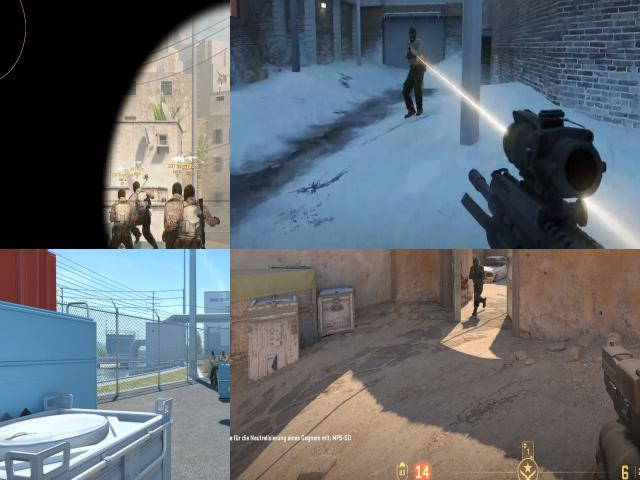CT: (471, 257, 486, 313)
CT-Head: (472, 258, 480, 266)
T: (402, 16, 428, 80), (177, 185, 202, 249), (130, 179, 154, 243), (110, 189, 134, 249), (165, 181, 184, 249), (210, 351, 218, 384), (220, 351, 228, 364)
T-Head: (404, 24, 422, 44), (184, 185, 198, 204), (171, 182, 183, 194), (116, 189, 126, 201), (132, 181, 142, 191), (212, 350, 216, 356), (222, 351, 226, 356)
